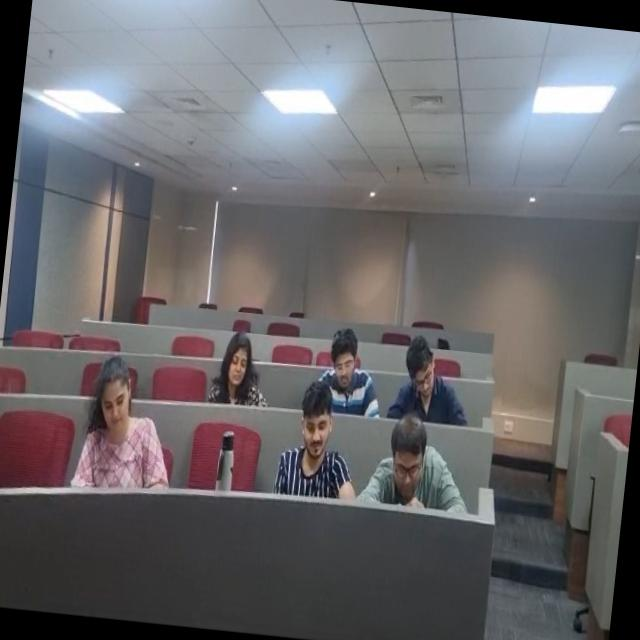cheating: (260, 374, 368, 504), (352, 408, 456, 513)
non-cheating: (54, 337, 200, 503), (382, 324, 458, 422), (305, 313, 378, 411), (204, 318, 278, 412)
